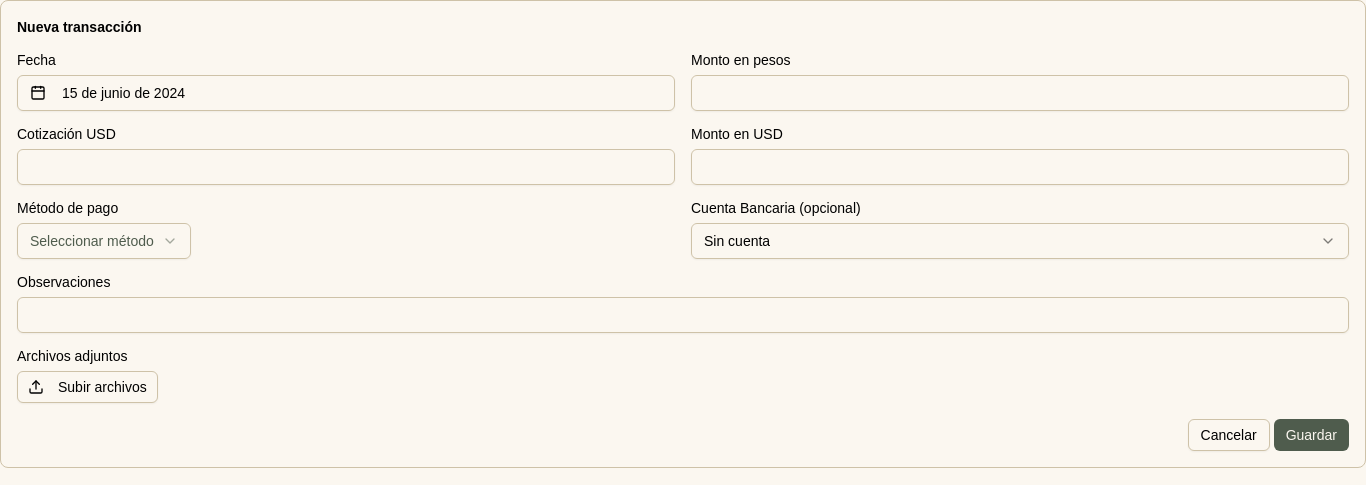
Test: AddTransactionSection › payment method selection › marks inactive methods in the label
Click the dropdown "Seleccionar método" at (104, 241), box [17,223,191,259]
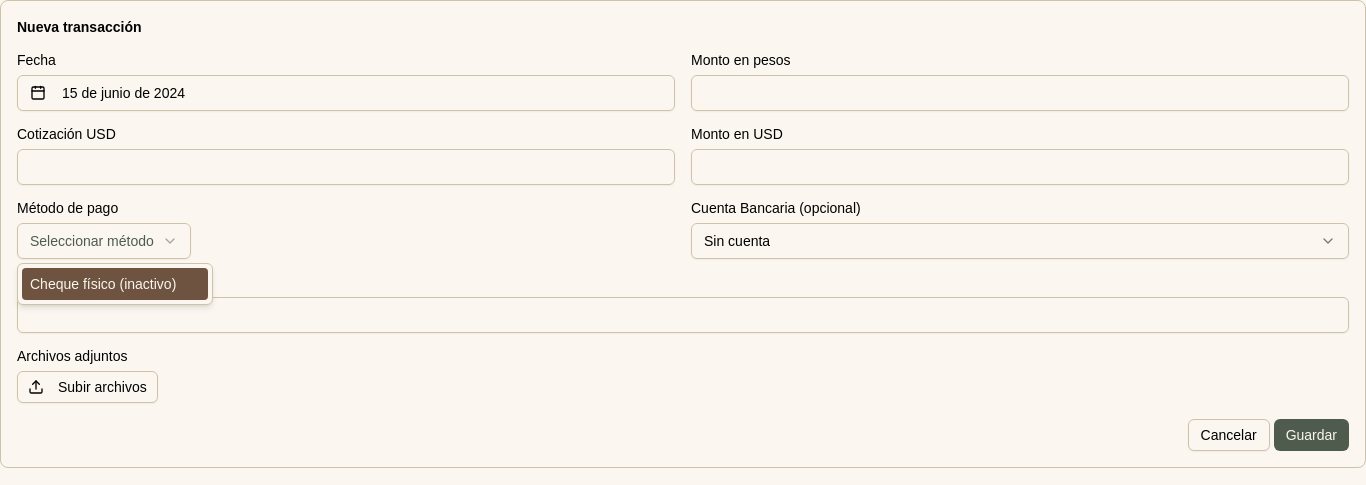
Check: the text "Cheque físico (inactivo)" is shown, box [30,274,176,294]
